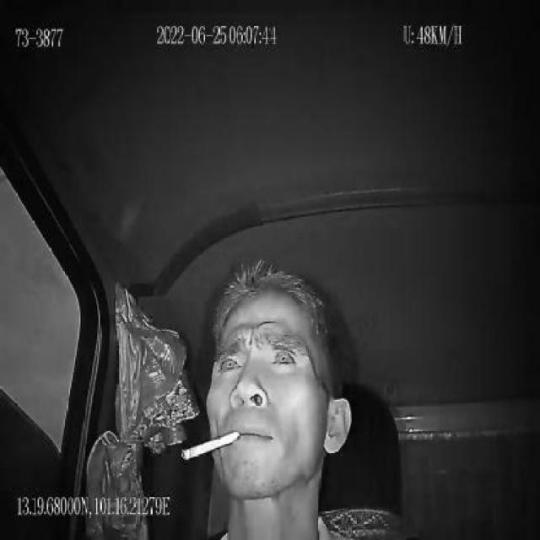smoking: (181, 427, 243, 463)
